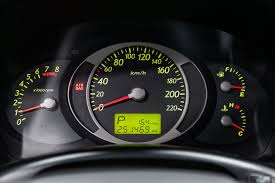Digital_Meter: (110, 113, 163, 138)
